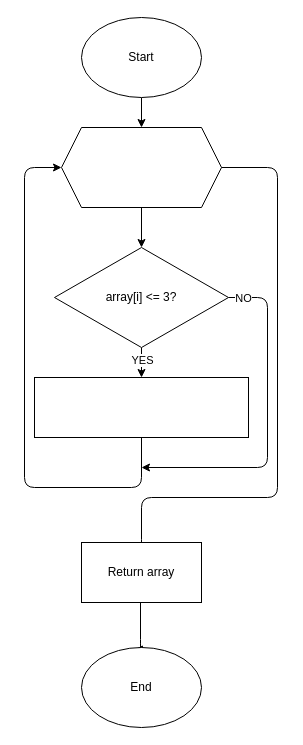
Some shapes in this 303 by 745 pixel diagram are drawn without their labels. The shapes that lost their labels are listed below. From the top down, each one's box as (x1, y1, x2, y2) in pixels, then its label:
(60, 126, 222, 208): i=0; size; 1
(34, 376, 248, 438): Console.Write (array[i] + " ")
